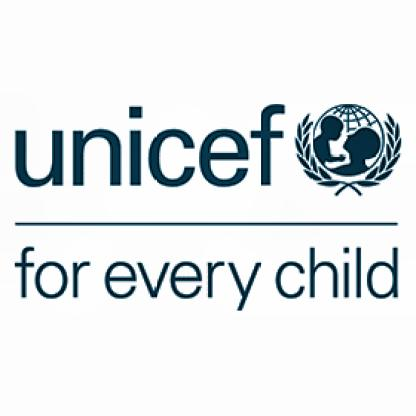Unicef: (12, 101, 289, 185), (293, 104, 401, 194)
